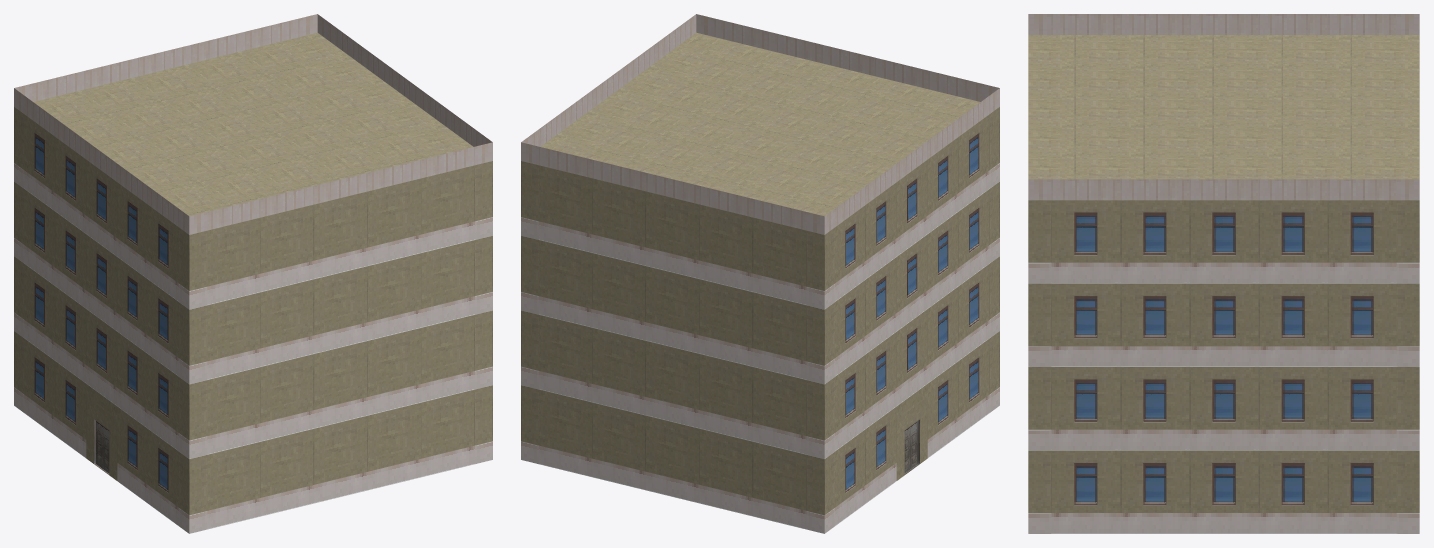
File: bld_flat_e.glb
3 views of the same model, side by side, from view 1: azimuth 30°, elevation 25°; view 2: azimuth 150°, elevation 25°; view 3: azimuth 270°, elevation 25° (orthographic). The views are drawn at different scales.
Visible parts, largest first — view 1: bld_flat_e; view 2: bld_flat_e; view 3: bld_flat_e.
Boxes of the visible parts, x1,y1,x2,y2 form: bld_flat_e: (14, 14, 492, 533); bld_flat_e: (521, 14, 999, 533); bld_flat_e: (1028, 14, 1419, 533).
Size of the model in its own units: 17 by 17 by 17.
Materials: 1 (1 with a texture image).
